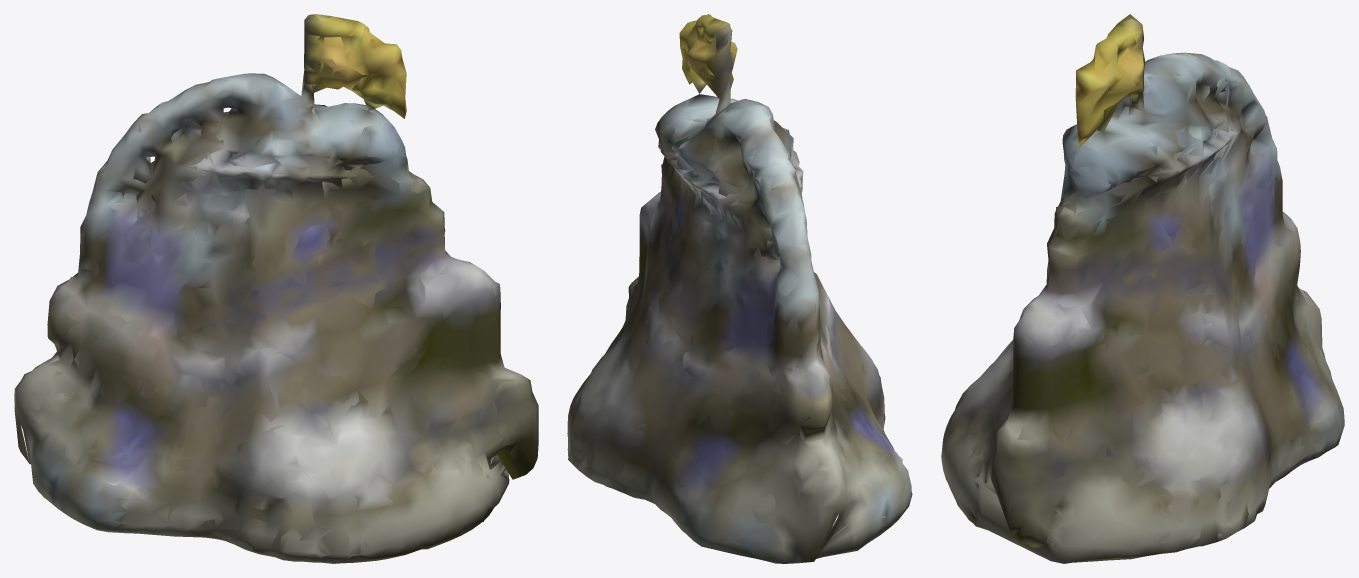
The model's file is tech_secret_lab.glb.
3 renders of one model, left to right at view 1: azimuth 30°, elevation 25°; view 2: azimuth 150°, elevation 25°; view 3: azimuth 270°, elevation 25°, orthographic. The views are drawn at different scales.
Parts seen in each view (by area): view 1: tech_secret_lab; view 2: tech_secret_lab; view 3: tech_secret_lab.
Part boxes in pixels (bbox=[...]): tech_secret_lab: bbox=[14, 14, 538, 563]; tech_secret_lab: bbox=[567, 14, 912, 563]; tech_secret_lab: bbox=[941, 14, 1344, 563].
Size of the model in its own units: 1.34 by 1.6 by 1.24.
